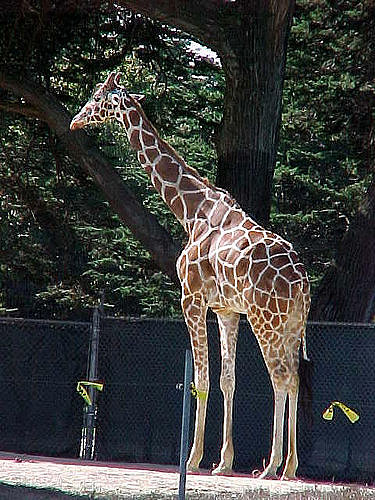giraffe: (68, 56, 328, 478)
